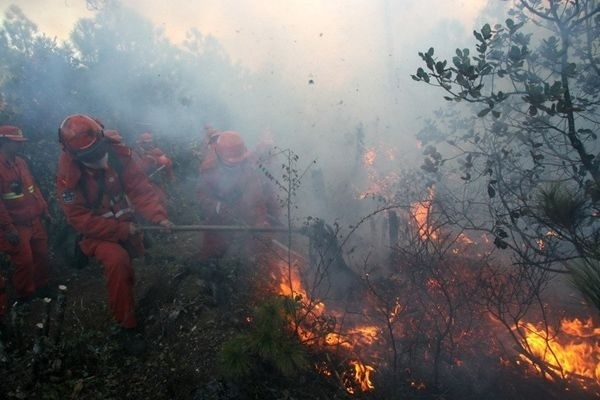fire: (268, 256, 406, 396), (500, 306, 600, 394), (408, 184, 441, 241)
